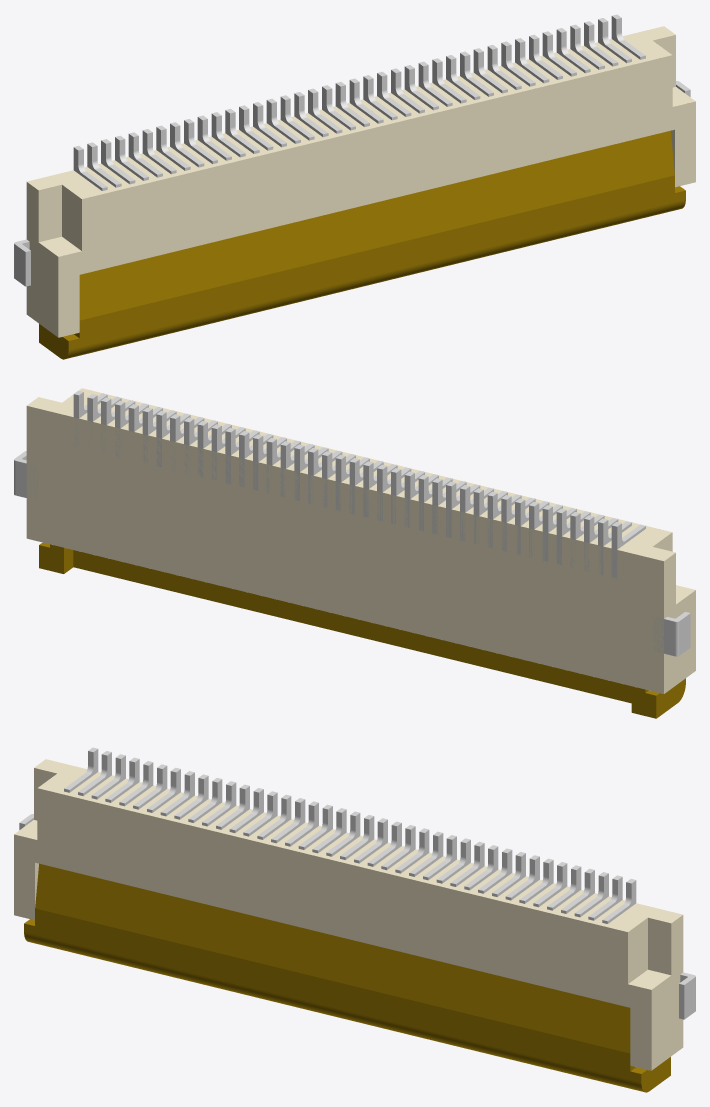
File: Hirose_FH12-40S-0.5SH_1x40-1MP_P0.50mm_Horizontal.glb
3 renders of one model, top to bottom at view 1: azimuth 30°, elevation 25°; view 2: azimuth 150°, elevation 25°; view 3: azimuth 330°, elevation 25°, orthographic.
Visible parts, largest first — view 1: Shape_IndexedFaceSet.005, Shape_IndexedFaceSet.023, Shape_IndexedFaceSet.016, Shape_IndexedFaceSet, Shape_IndexedFaceSet.018, Shape_IndexedFaceSet.008, Shape_IndexedFaceSet.007, Shape_IndexedFaceSet.006, Shape_IndexedFaceSet.020; view 2: Shape_IndexedFaceSet.001, Shape_IndexedFaceSet.030, Shape_IndexedFaceSet, Shape_IndexedFaceSet.008, Shape_IndexedFaceSet.027, Shape_IndexedFaceSet.508, Shape_IndexedFaceSet.026, Shape_IndexedFaceSet.020, Shape_IndexedFaceSet.499; view 3: Shape_IndexedFaceSet.005, Shape_IndexedFaceSet.023, Shape_IndexedFaceSet.016, Shape_IndexedFaceSet, Shape_IndexedFaceSet.018, Shape_IndexedFaceSet.002, Shape_IndexedFaceSet.003, Shape_IndexedFaceSet.004, Shape_IndexedFaceSet.017.
Boxes of the visible parts, x1,y1,x2,y2 form: Shape_IndexedFaceSet.005: [58, 55, 695, 337]; Shape_IndexedFaceSet.023: [79, 130, 674, 320]; Shape_IndexedFaceSet.016: [68, 175, 685, 349]; Shape_IndexedFaceSet: [27, 26, 675, 198]; Shape_IndexedFaceSet.018: [65, 199, 685, 359]; Shape_IndexedFaceSet.008: [26, 182, 58, 337]; Shape_IndexedFaceSet.007: [38, 184, 61, 241]; Shape_IndexedFaceSet.006: [62, 185, 81, 250]; Shape_IndexedFaceSet.020: [39, 324, 68, 359]; Shape_IndexedFaceSet.001: [26, 406, 663, 693]; Shape_IndexedFaceSet.030: [73, 550, 631, 703]; Shape_IndexedFaceSet: [27, 388, 675, 560]; Shape_IndexedFaceSet.008: [664, 553, 695, 693]; Shape_IndexedFaceSet.027: [631, 686, 656, 718]; Shape_IndexedFaceSet.508: [653, 617, 675, 656]; Shape_IndexedFaceSet.026: [39, 544, 63, 573]; Shape_IndexedFaceSet.020: [656, 678, 685, 718]; Shape_IndexedFaceSet.499: [15, 461, 37, 499]; Shape_IndexedFaceSet.005: [14, 788, 651, 1070]; Shape_IndexedFaceSet.023: [35, 863, 630, 1053]; Shape_IndexedFaceSet.016: [24, 908, 641, 1082]; Shape_IndexedFaceSet: [34, 759, 682, 931]; Shape_IndexedFaceSet.018: [24, 932, 644, 1092]; Shape_IndexedFaceSet.002: [651, 915, 683, 1070]; Shape_IndexedFaceSet.003: [648, 917, 671, 974]; Shape_IndexedFaceSet.004: [628, 918, 647, 983]; Shape_IndexedFaceSet.017: [641, 1057, 670, 1092].
Bounding box in the file's own units: 9.49 × 2.52 × 0.7875.
